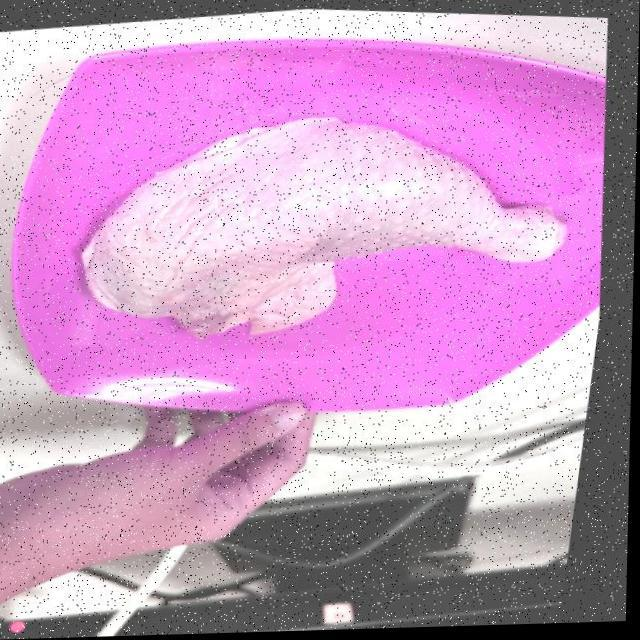quater: (96, 108, 564, 340)
